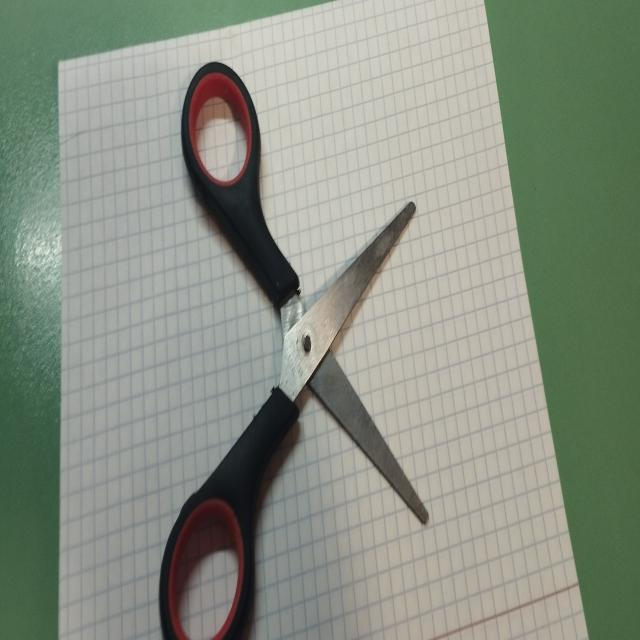tesoura: (154, 49, 436, 640)
